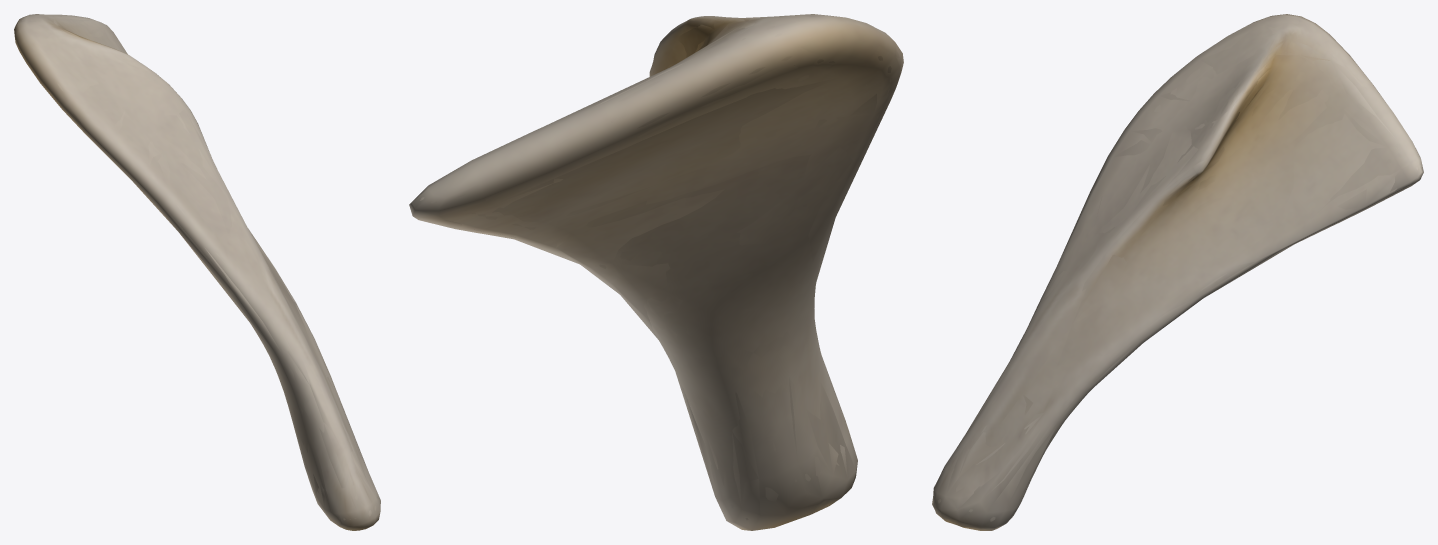
Rendered from L Scapula.fbx.
3 views of the same model, side by side, from view 1: azimuth 30°, elevation 25°; view 2: azimuth 150°, elevation 25°; view 3: azimuth 270°, elevation 25° (orthographic). The views are drawn at different scales.
Parts seen in each view (by area): view 1: L Scapula, L Scapula low, L Scapula high; view 2: L Scapula, L Scapula low, L Scapula high; view 3: L Scapula, L Scapula low, L Scapula high.
Part boxes in pixels (<box>): L Scapula: <box>14,14,380,530</box>; L Scapula low: <box>14,15,380,528</box>; L Scapula high: <box>19,16,376,528</box>; L Scapula: <box>409,14,903,530</box>; L Scapula low: <box>415,14,897,529</box>; L Scapula high: <box>417,16,899,526</box>; L Scapula: <box>932,14,1423,530</box>; L Scapula low: <box>933,14,1419,530</box>; L Scapula high: <box>933,19,1421,528</box>.
Bounding box in the file's own units: 6.86 × 13.33 × 13.9.
